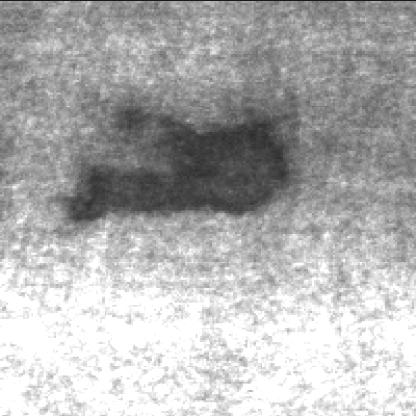patches: (58, 104, 291, 224)
